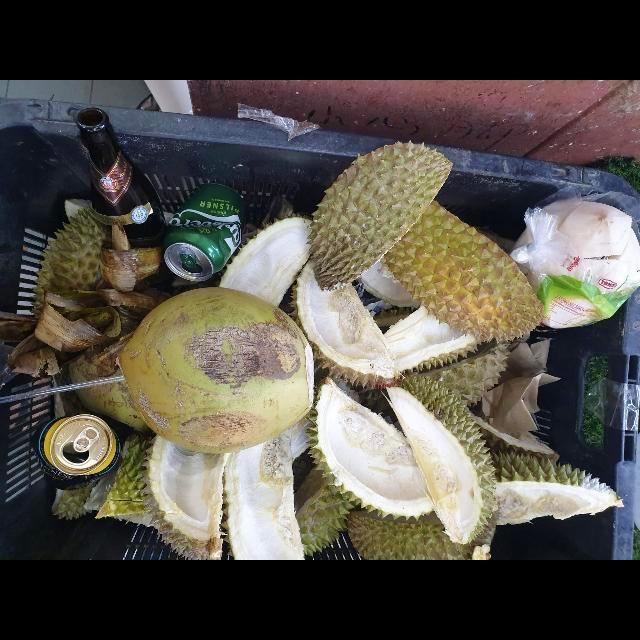aluminum: (162, 183, 245, 282), (38, 414, 120, 490)
glass_bottle: (76, 108, 167, 251)
